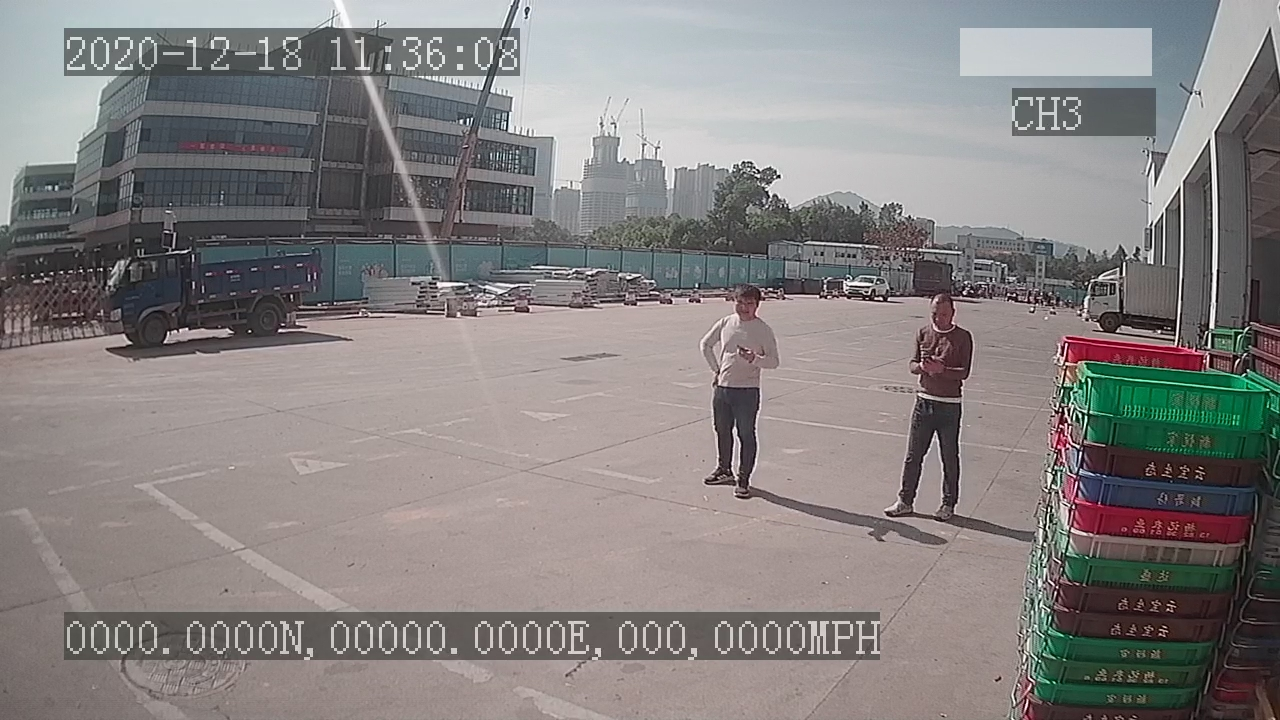person: (688, 281, 786, 501), (884, 291, 973, 523)
